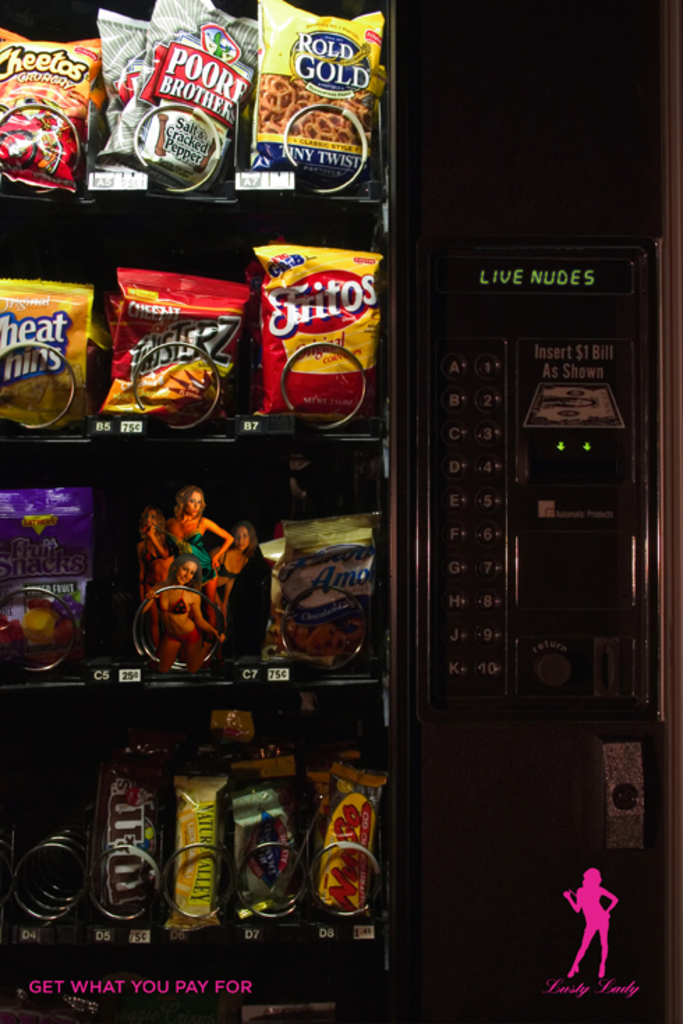Person: (161, 482, 235, 665), (144, 559, 231, 672), (132, 507, 175, 655), (209, 520, 259, 640)
